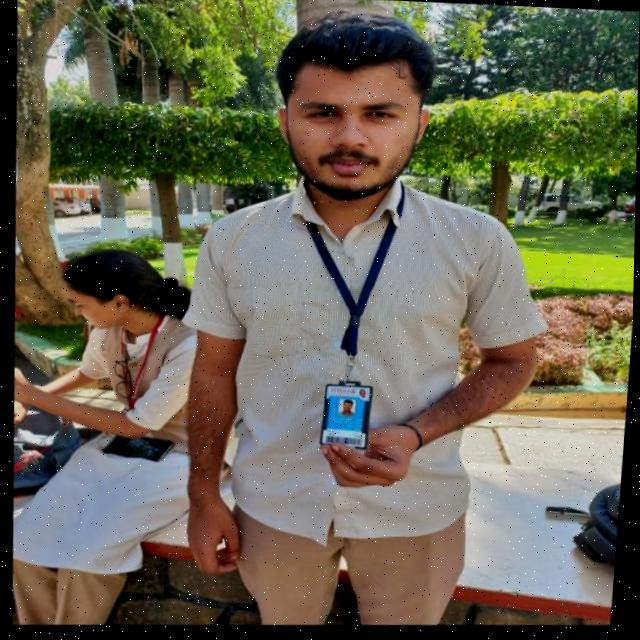id_card: (283, 202, 404, 460)
